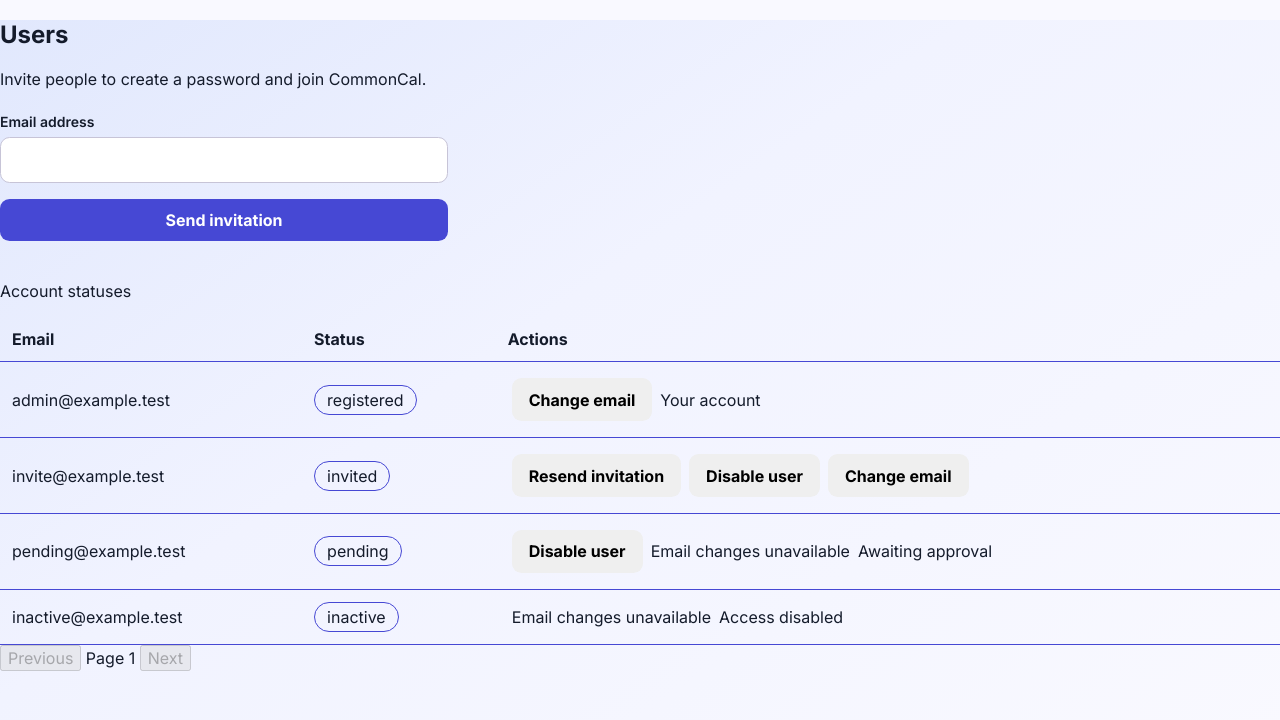
Test: offers email editing only for invited and registered users and cancel does not mutate
Click the button "Change email" in the row of "invite@example.test" at (898, 476), box [828,454,969,497]
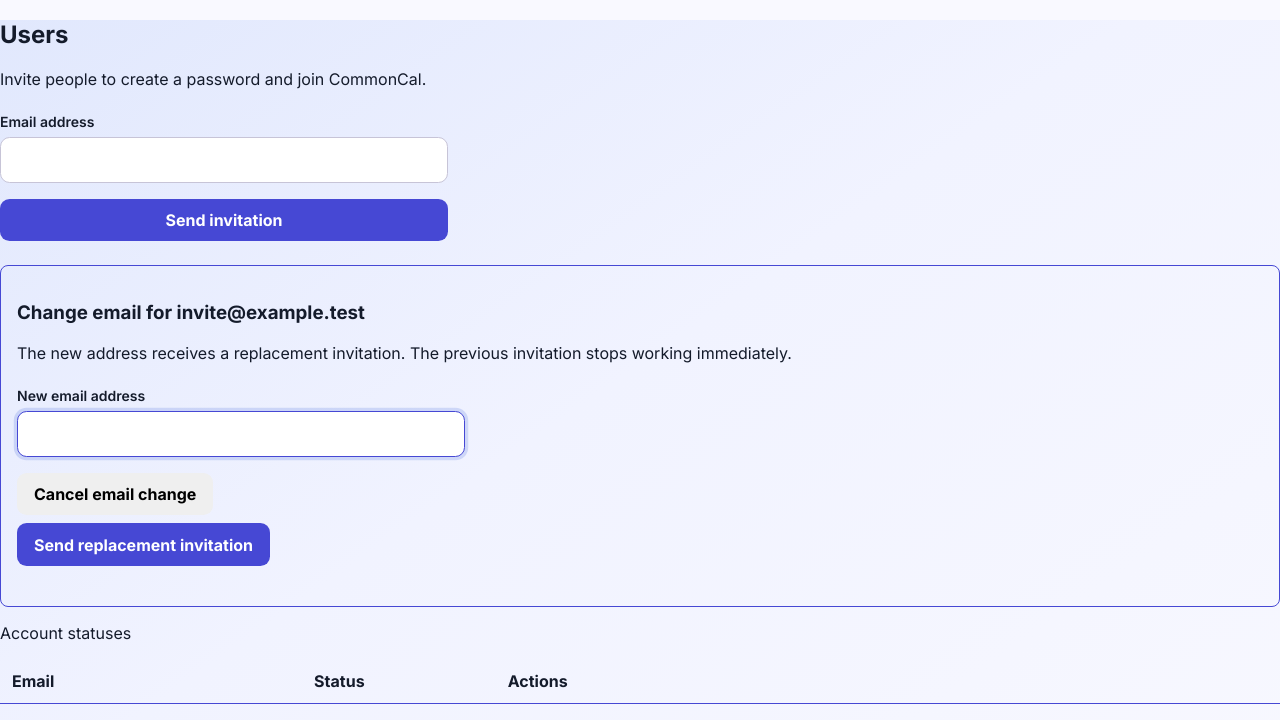
Expected: the text "previous invitation stops working immediately" is shown, [17,343,792,363]
Click the button "Cancel email change" at (115, 494), box [17,473,213,515]
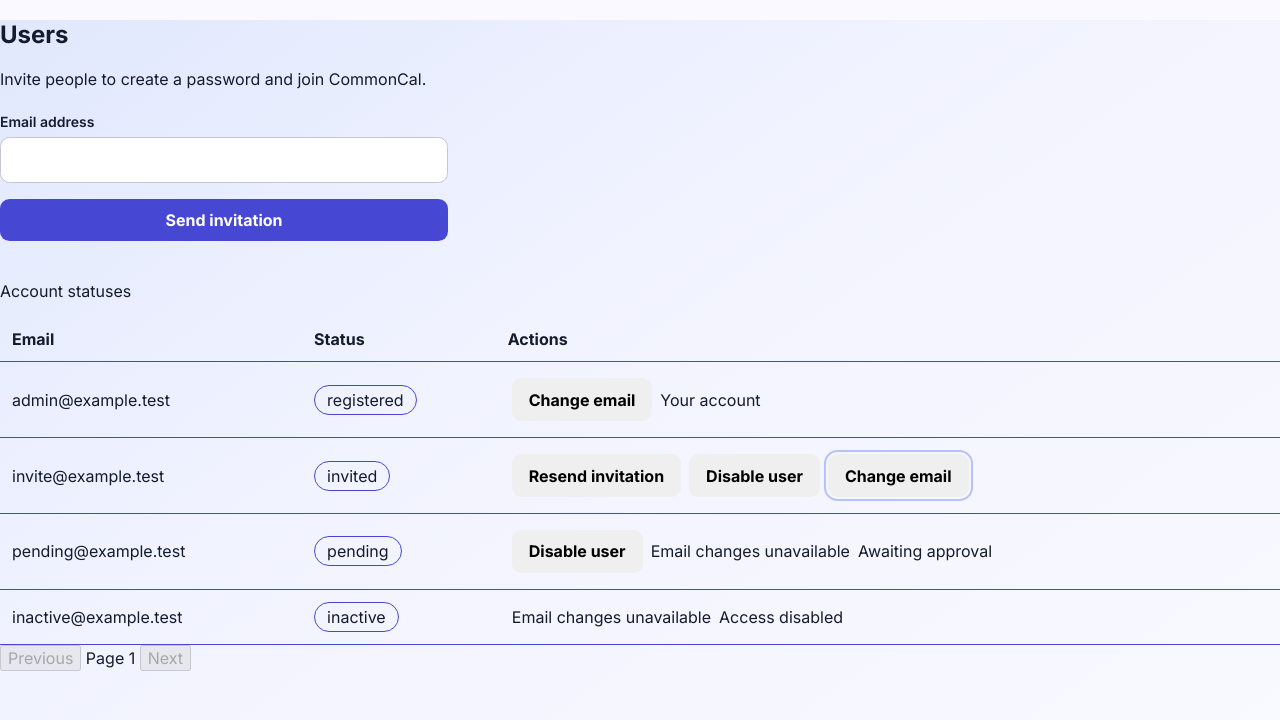
Expected: the text labelled "New email address" is gone
